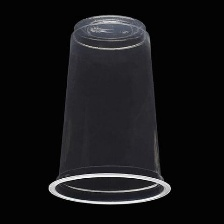glass: (44, 9, 177, 210)
